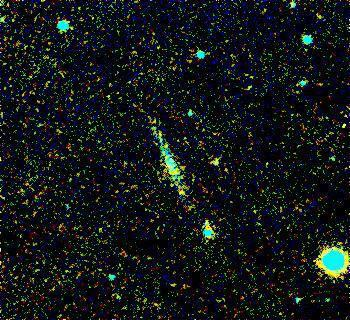star: (163, 177, 193, 207)
